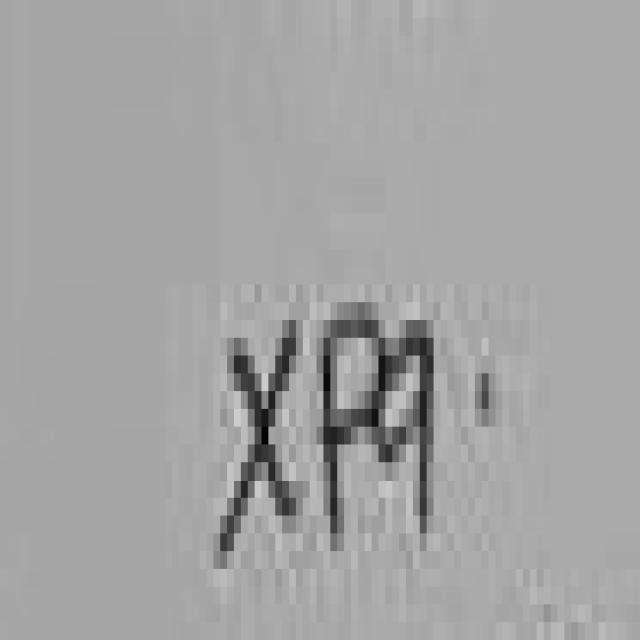X: (211, 306, 306, 576)
a: (378, 290, 454, 550)
p: (316, 297, 382, 561)
